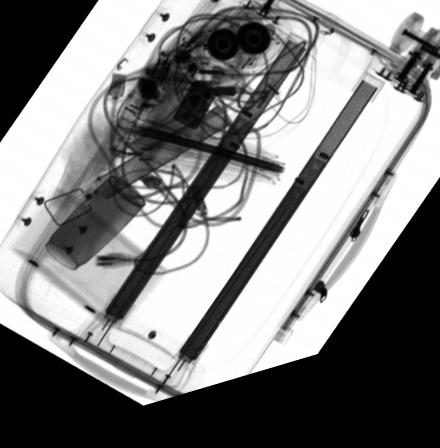Lighter: (171, 91, 218, 141)
